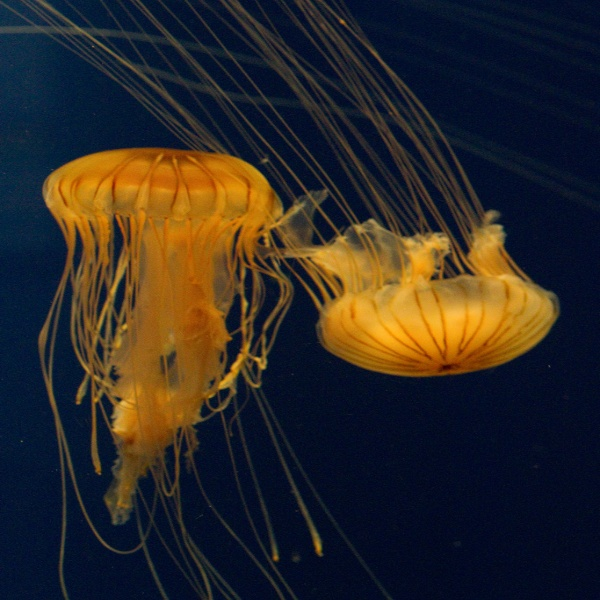Jellyfish: (0, 0, 563, 377), (33, 144, 390, 599)
